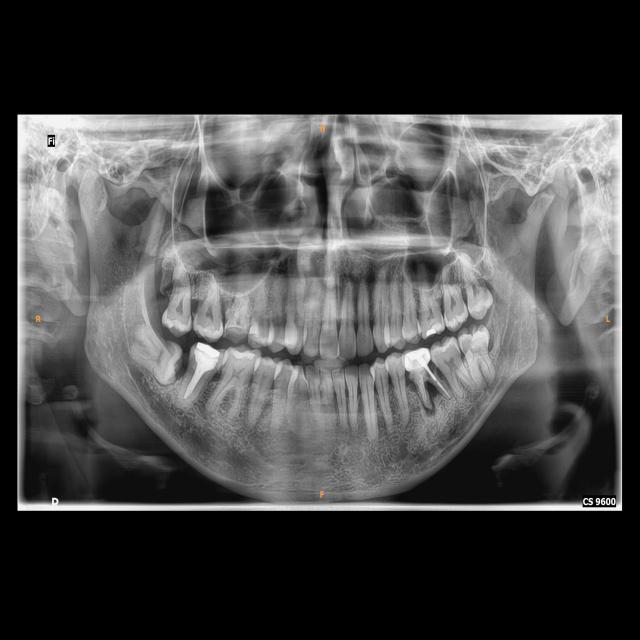dolgu: (192, 344, 224, 374)
kanal-tedavisi: (416, 364, 444, 396), (182, 364, 202, 399)
kaplama: (404, 349, 432, 369)
kok-enfeksiyonu: (408, 249, 442, 290), (414, 395, 444, 423)
